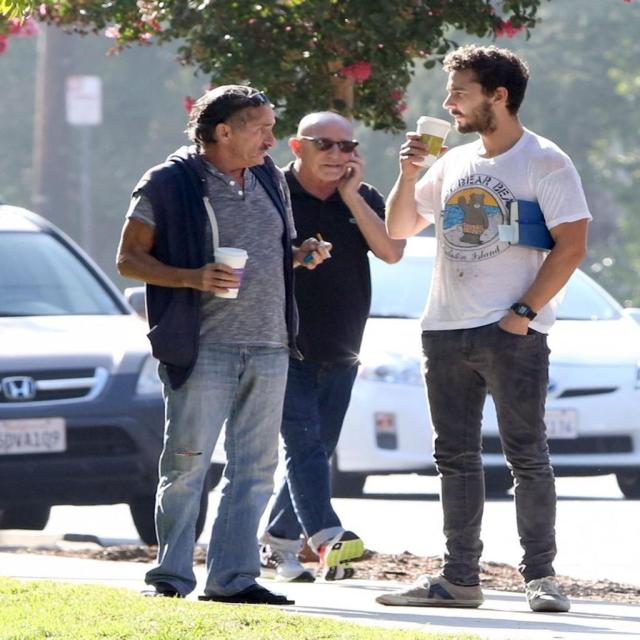Face: (434, 58, 505, 144), (292, 115, 366, 192), (211, 100, 275, 175)
